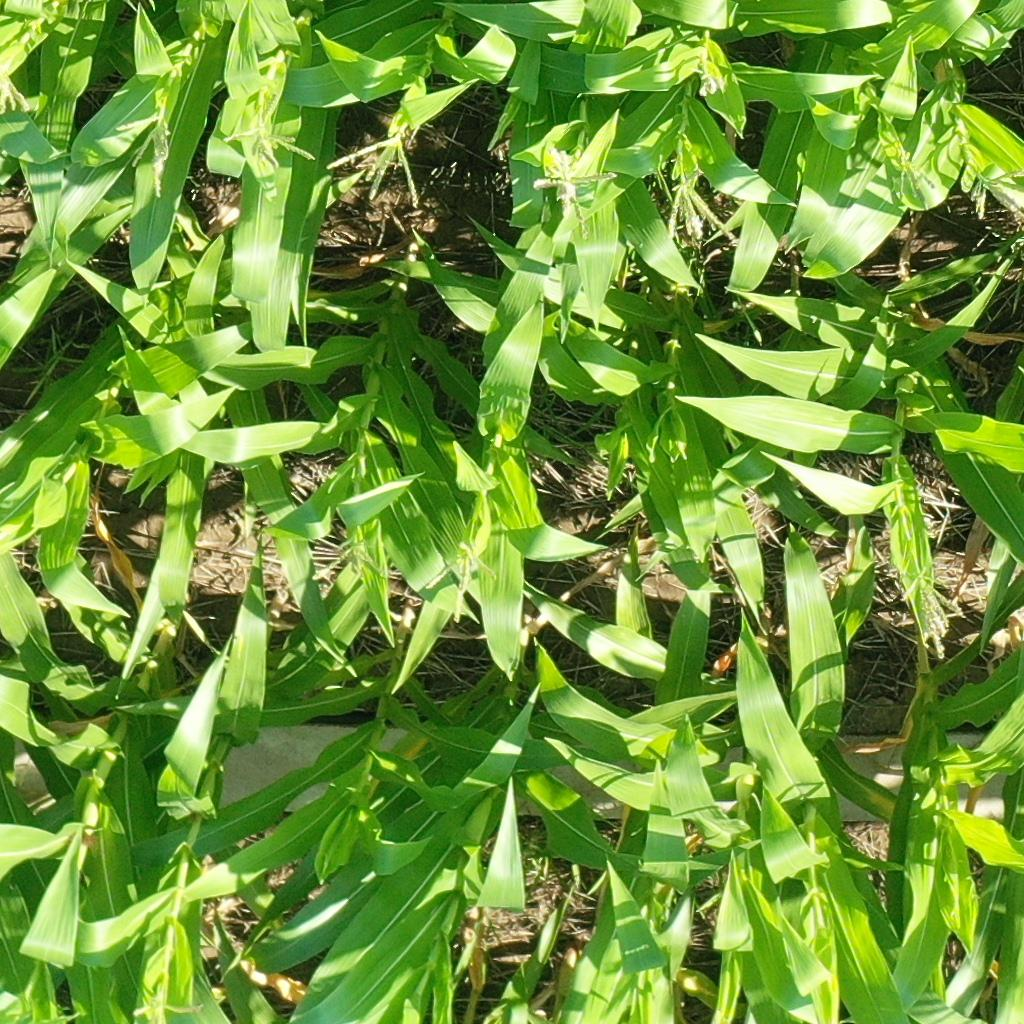Tassel: (530, 142, 624, 243), (326, 123, 423, 212), (223, 87, 318, 171), (421, 539, 497, 625), (666, 168, 739, 251), (115, 109, 176, 197), (900, 567, 958, 659), (310, 529, 399, 586), (132, 983, 203, 1024), (972, 170, 1024, 225), (895, 155, 938, 209), (688, 53, 729, 98), (1, 62, 32, 119)
